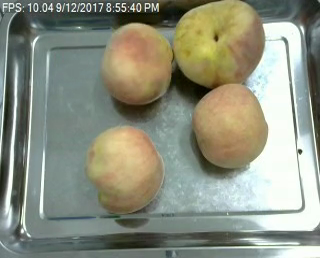Peach: (174, 0, 264, 87), (84, 124, 164, 214), (192, 83, 268, 169), (101, 21, 173, 105)
